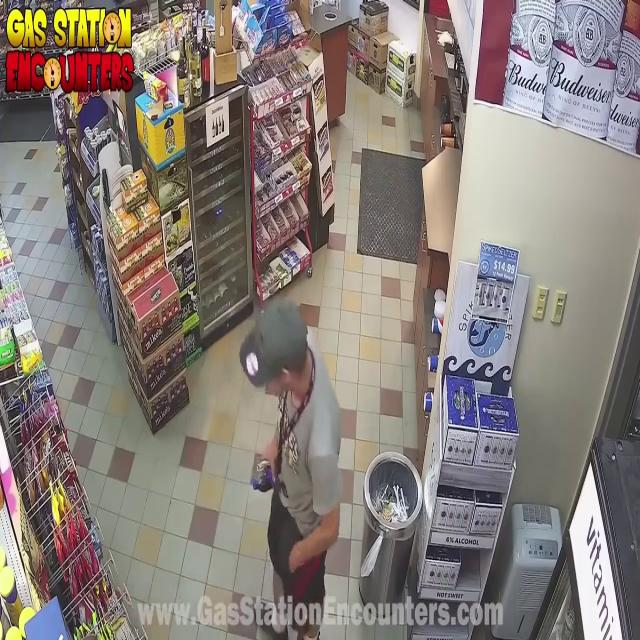Product: (249, 432, 282, 511)
shoplifting: (192, 241, 387, 640)
